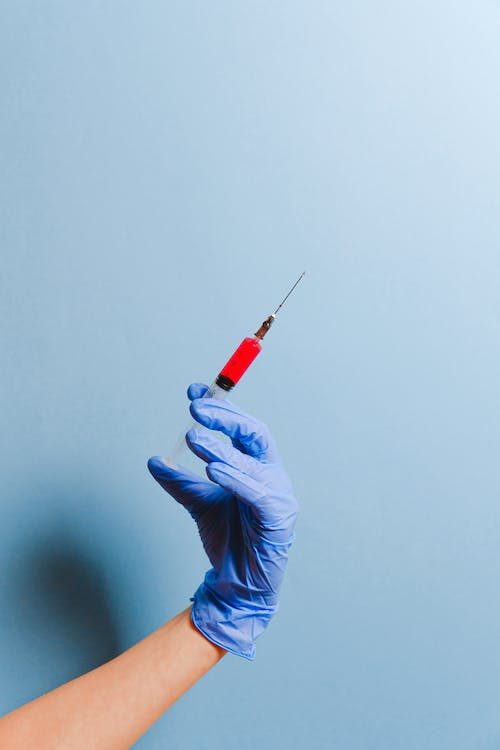blood: (212, 312, 277, 393)
